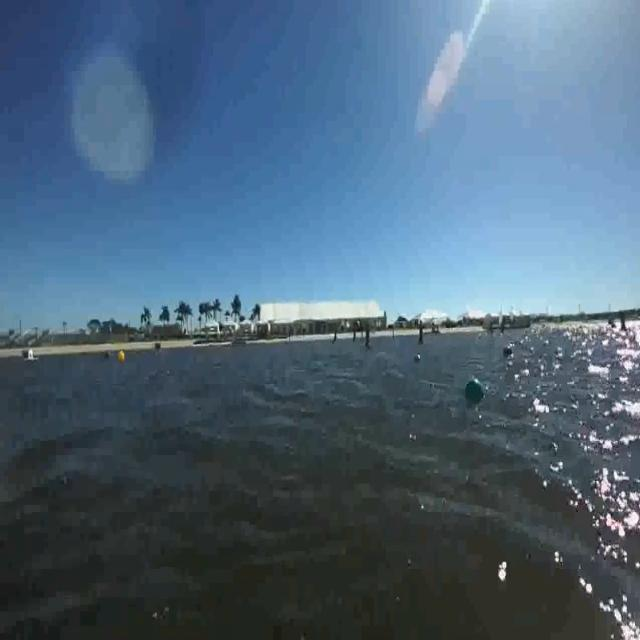green-buoy: (468, 377, 485, 398)
